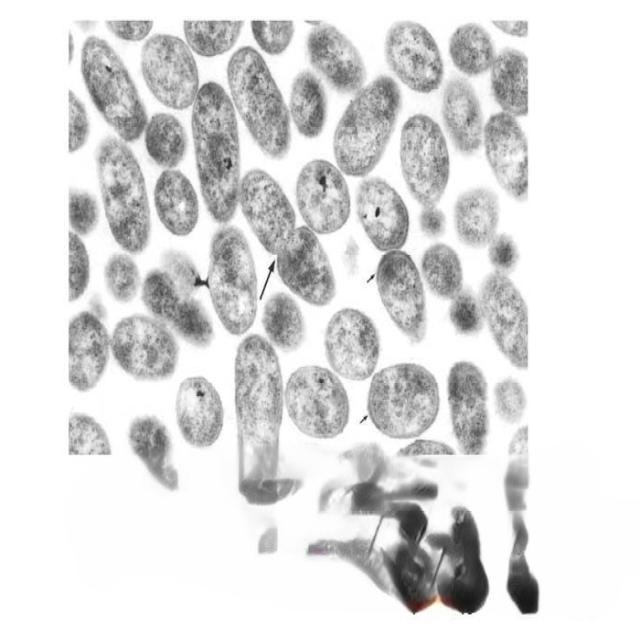Rod_bacteria: (68, 18, 538, 617)
